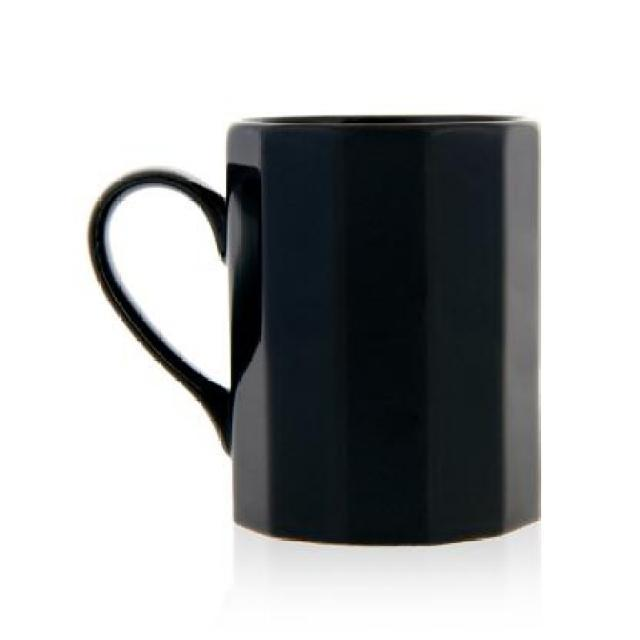taza: (83, 117, 542, 548)
